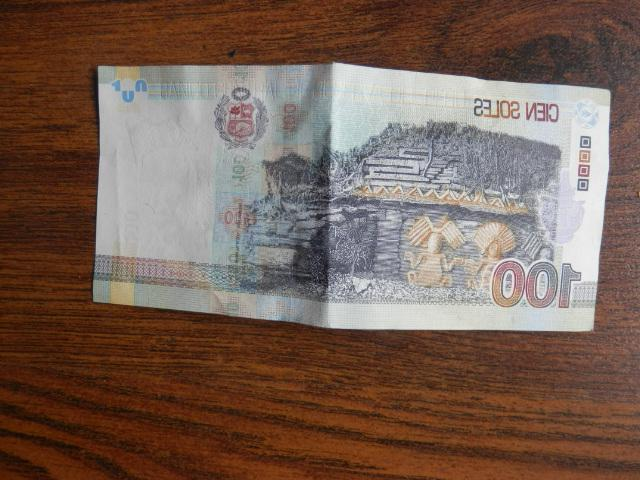B100: (94, 66, 610, 333)
